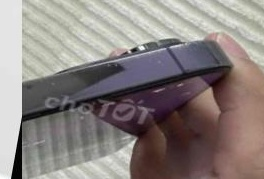scratch: (114, 22, 216, 72), (26, 46, 124, 98)
